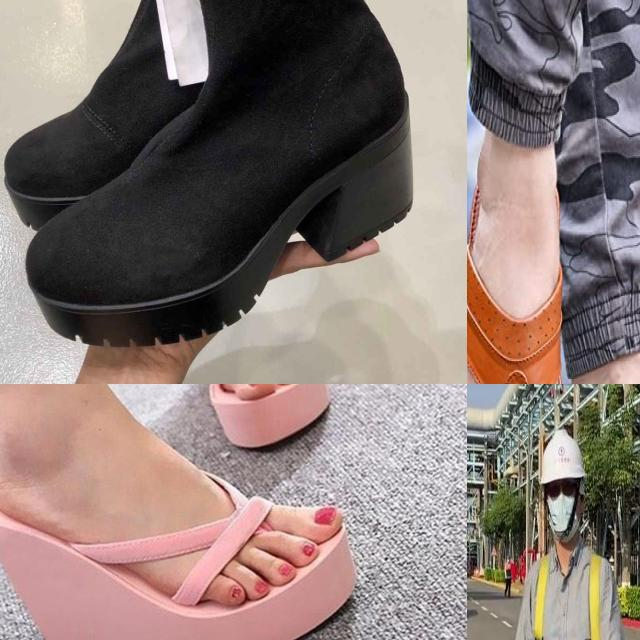Harness: (534, 556, 549, 640), (590, 554, 602, 640)
Sandals: (0, 0, 451, 366), (0, 421, 356, 640), (467, 120, 563, 384), (154, 384, 335, 452)
